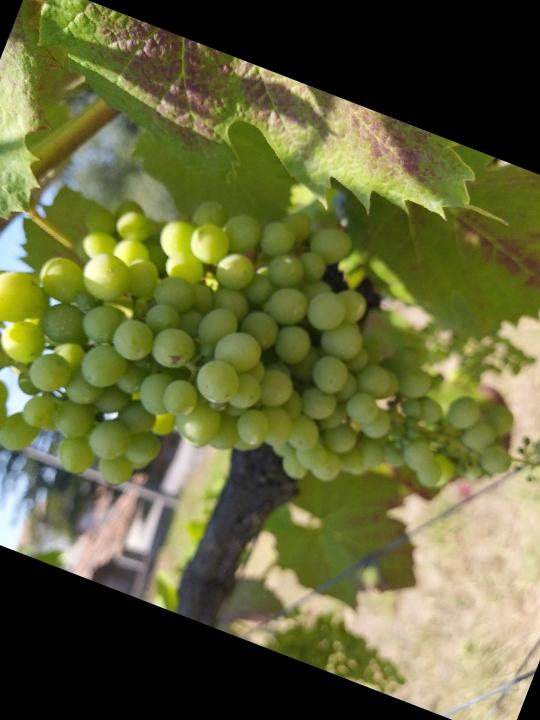grape: (0, 97, 540, 657)
